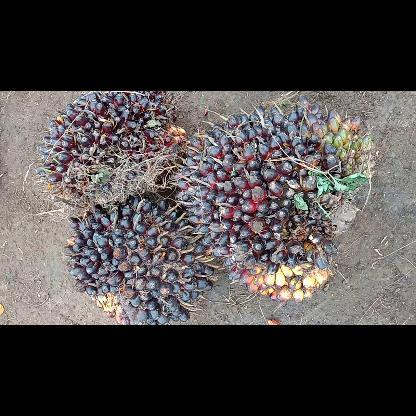TBS mentah: (168, 93, 374, 302), (63, 192, 217, 324), (32, 91, 190, 207)
